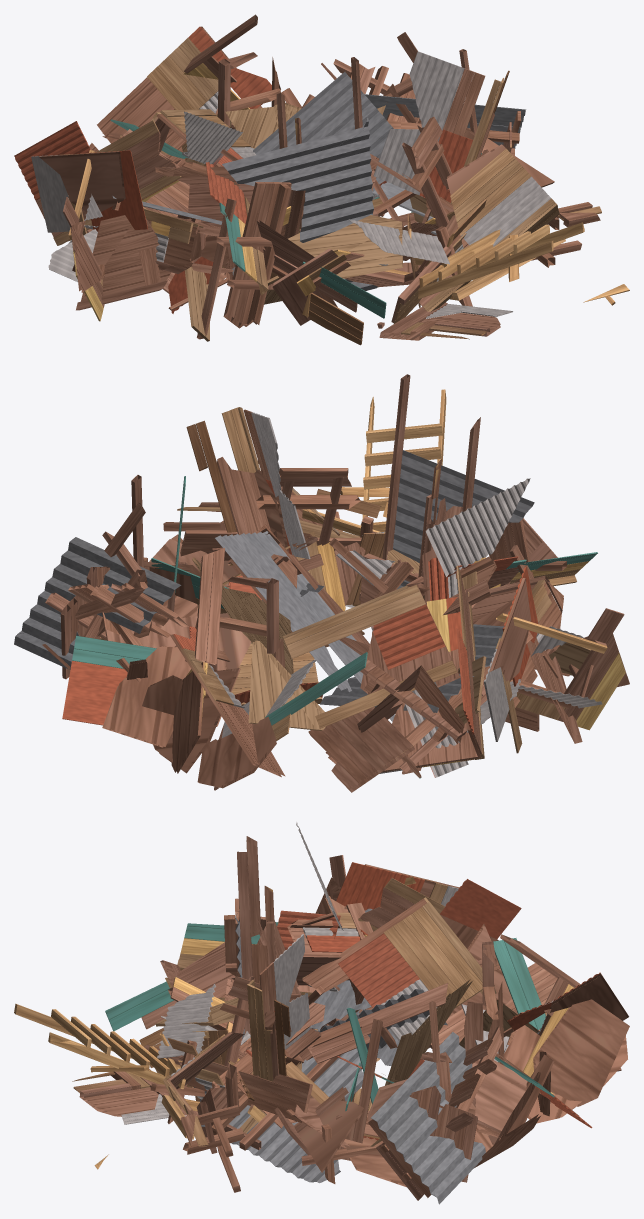
Rendered from houdini_stacked_shack_pieces.glb.
The picture shows the model from 3 angles, top to bottom: view 1: azimuth 30°, elevation 25°; view 2: azimuth 150°, elevation 25°; view 3: azimuth 270°, elevation 25°; orthographic projection. The views are drawn at different scales.
Visible parts, largest first — view 1: LOD0; view 2: LOD0; view 3: LOD0.
Part boxes in pixels (box(x1,y1,x2,y2)): LOD0: box(14, 14, 629, 345); LOD0: box(14, 374, 629, 792); LOD0: box(14, 822, 629, 1204).
Bounding box in the file's own units: 8.17 × 3.74 × 8.85.
Materials: 2 (2 with a texture image).
